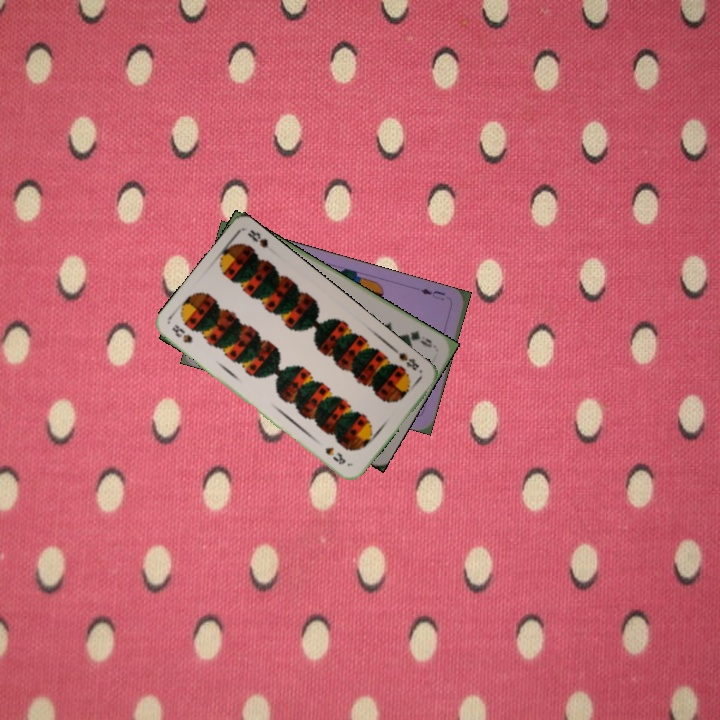EU: (417, 284, 448, 303)
G9: (399, 326, 438, 351)
S8: (390, 345, 422, 373), (168, 320, 196, 346)
